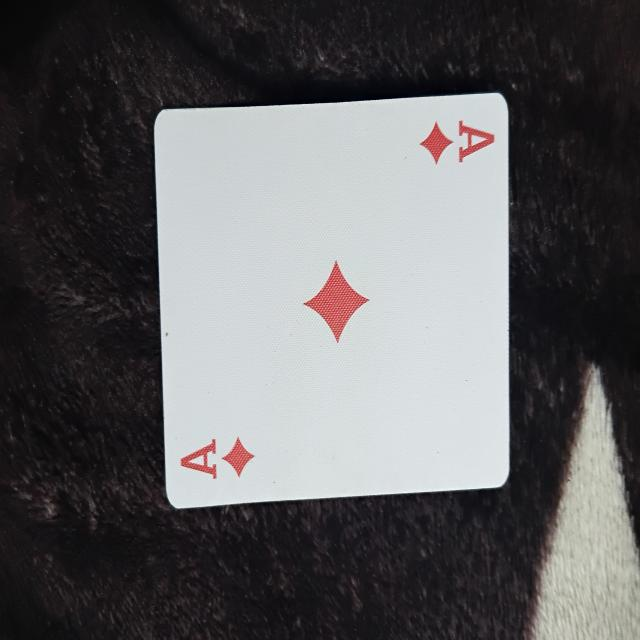AD: (153, 92, 509, 510)
